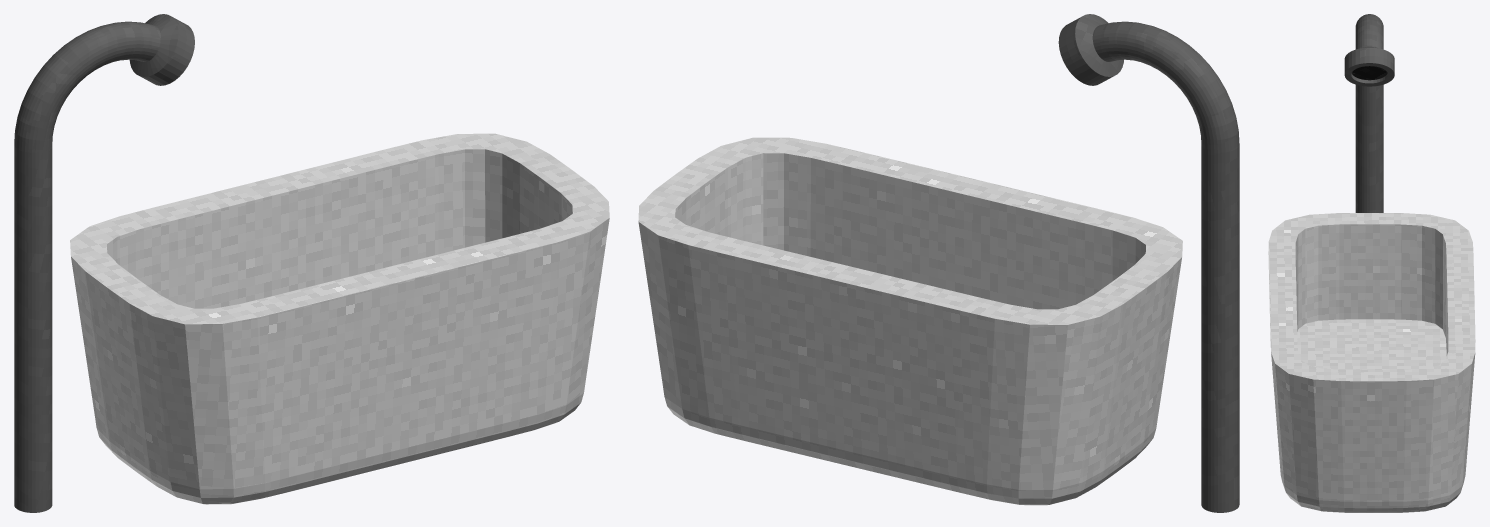
Rendered from Banheira.glb.
3 renders of one model, left to right at view 1: azimuth 30°, elevation 25°; view 2: azimuth 150°, elevation 25°; view 3: azimuth 270°, elevation 25°, orthographic. The views are drawn at different scales.
Visible parts, largest first — view 1: Cube.002, Cylinder; view 2: Cube.002, Cylinder; view 3: Cube.002, Cylinder.
Part boxes in pixels (left/top/right/bottom): Cube.002: left=70, top=133, right=609, bottom=504; Cylinder: left=14, top=14, right=194, bottom=512; Cube.002: left=638, top=137, right=1182, bottom=505; Cylinder: left=1058, top=14, right=1239, bottom=512; Cube.002: left=1268, top=213, right=1475, bottom=512; Cylinder: left=1344, top=14, right=1394, bottom=212.
Size of the model in its own units: 5.81 by 4.57 by 2.52.
2 materials, 2 textured.
